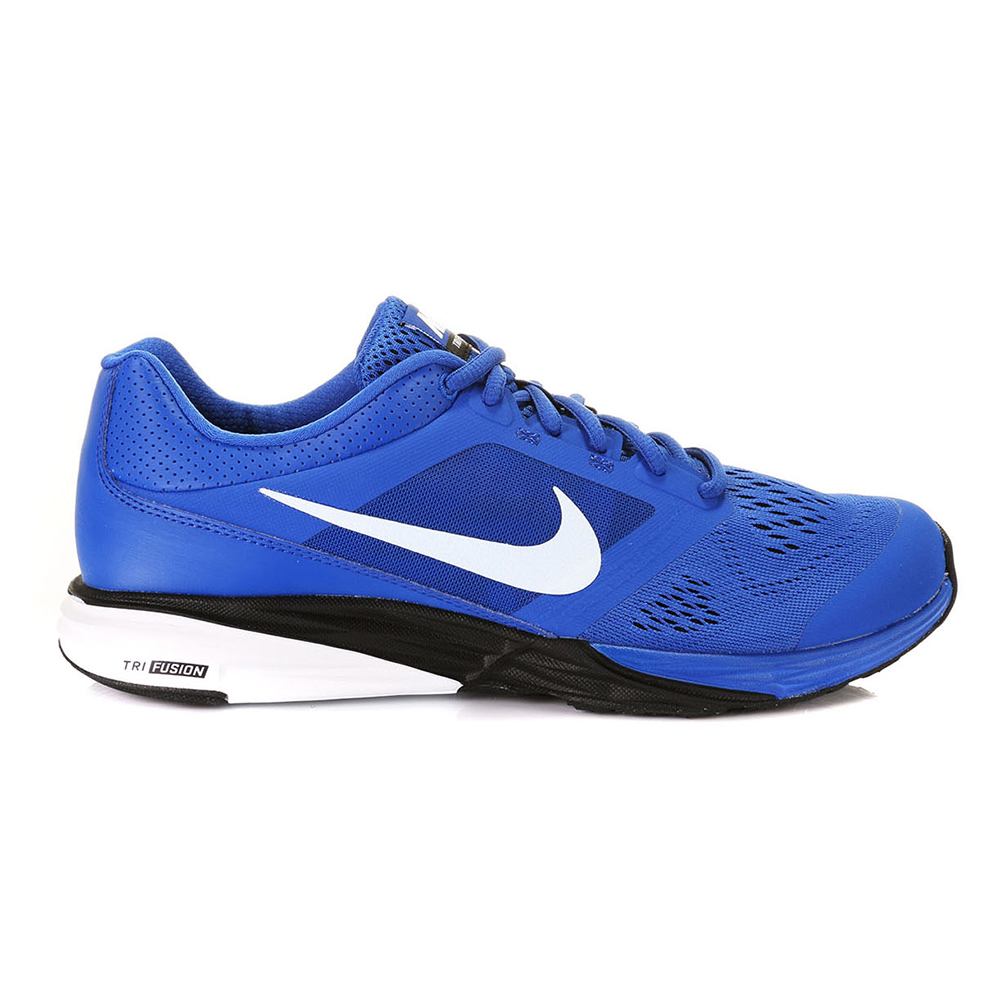Nike: (252, 467, 611, 601)
